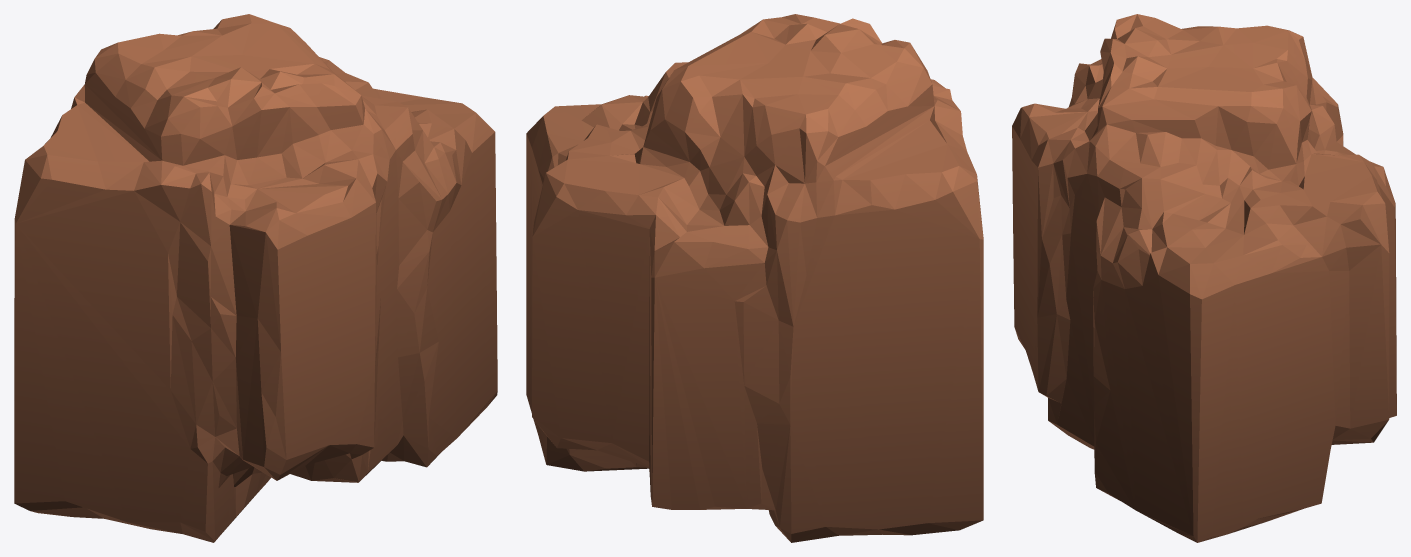
The model's file is mountain02.fbx.
3 views of the same model, side by side, from view 1: azimuth 30°, elevation 25°; view 2: azimuth 150°, elevation 25°; view 3: azimuth 270°, elevation 25° (orthographic). The views are drawn at different scales.
Visible parts, largest first — view 1: Mountain02; view 2: Mountain02; view 3: Mountain02.
Part boxes in pixels (x1,y1,x2,y2): Mountain02: [14, 14, 497, 542]; Mountain02: [526, 14, 983, 542]; Mountain02: [1012, 14, 1396, 542].
Bounding box in the file's own units: 1487 × 1305 × 1147.
